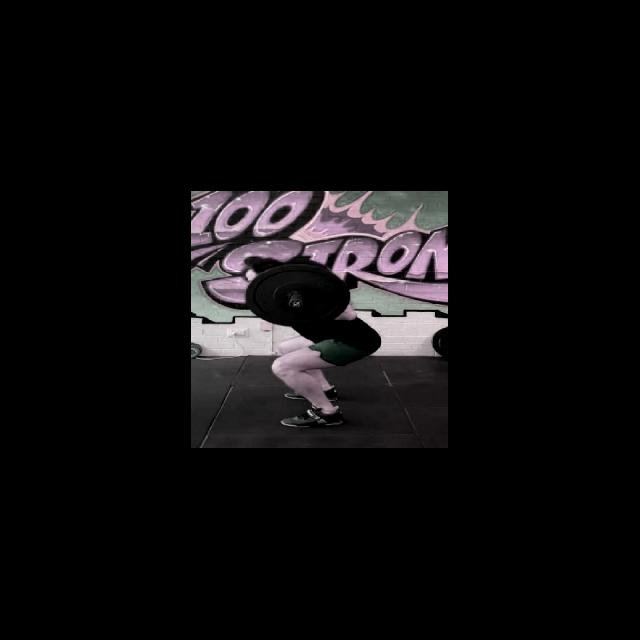barbell: (244, 263, 351, 329)
